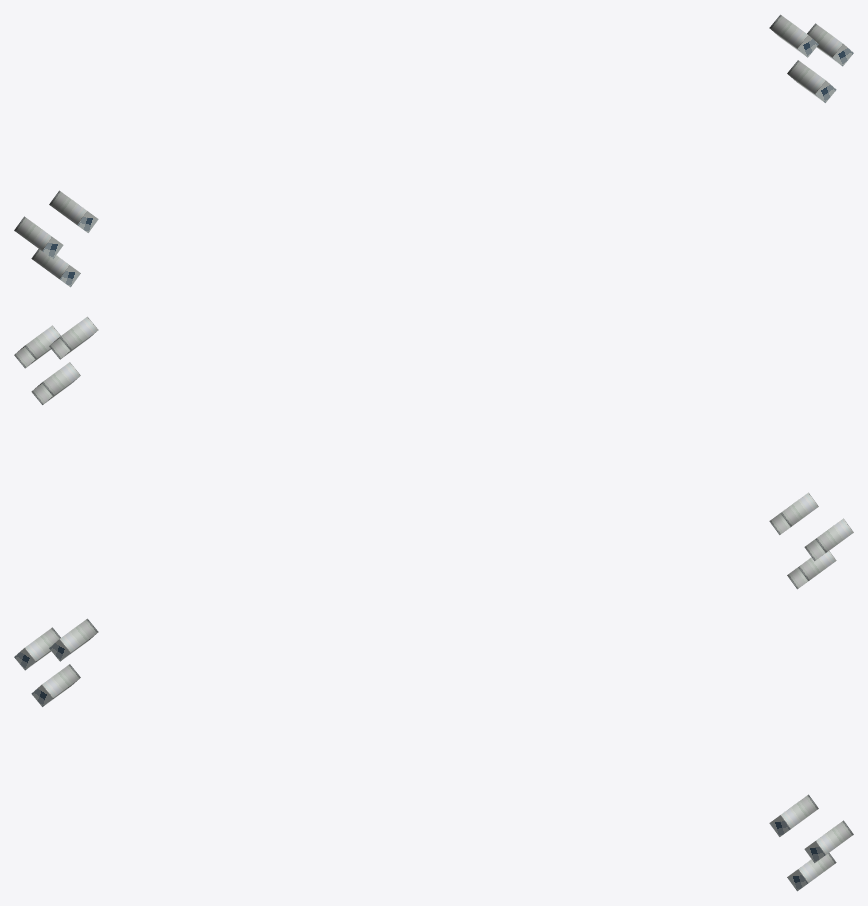
File: hutt_fighter_medium_weapon2_s04_l2.fbx
3 views of the same model, one above another, from view 1: azimuth 30°, elevation 25°; view 2: azimuth 150°, elevation 25°; view 3: azimuth 330°, elevation 25° (orthographic).
Parts seen in each view (by area): view 1: mesh_node; view 2: mesh_node; view 3: mesh_node.
Part boxes in pixels (<box>): mesh_node: <box>14,14,853,287</box>; mesh_node: <box>14,316,853,589</box>; mesh_node: <box>14,618,853,891</box>.
Bounding box in the file's own units: 3.21 × 0.273 × 0.1927.
Materials: 1 (1 with a texture image).
